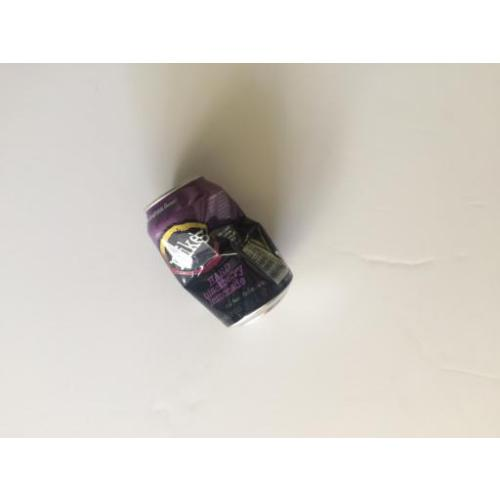metal: (144, 177, 295, 329)
